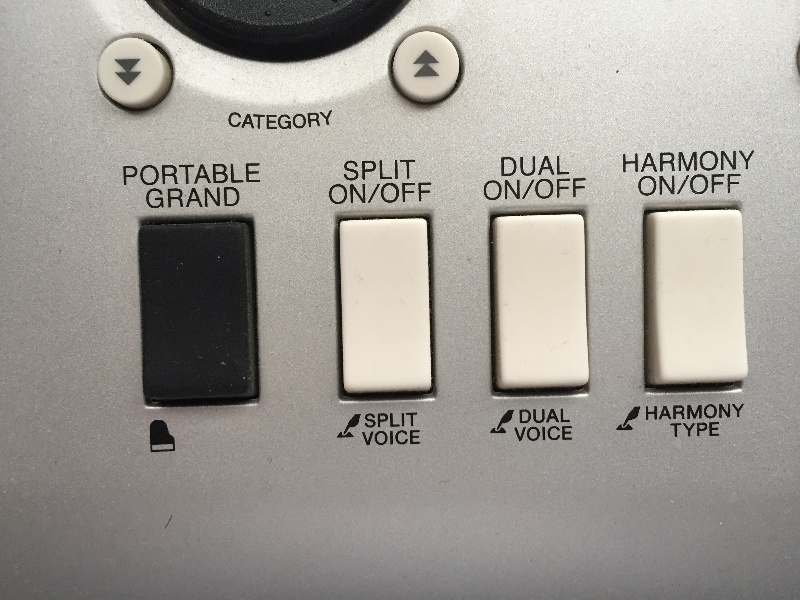text: (625, 150, 640, 174), (641, 150, 656, 174), (657, 150, 672, 174), (673, 150, 688, 174), (689, 150, 704, 174), (705, 150, 720, 174), (721, 150, 736, 174), (737, 150, 752, 174), (225, 187, 241, 209), (129, 163, 144, 186), (145, 163, 160, 186), (161, 163, 176, 186), (177, 163, 192, 186), (193, 163, 208, 186), (209, 163, 224, 186), (225, 163, 240, 186), (241, 163, 256, 186), (337, 183, 352, 206), (353, 183, 368, 206), (369, 183, 384, 206), (385, 183, 400, 206), (401, 183, 416, 206), (417, 183, 432, 206), (497, 178, 512, 201), (513, 178, 528, 201), (529, 178, 544, 201), (545, 178, 560, 201), (561, 178, 576, 201), (641, 174, 656, 197), (657, 174, 672, 197), (673, 174, 688, 197), (689, 174, 704, 197), (705, 174, 720, 197), (721, 174, 736, 197), (161, 187, 176, 209), (177, 187, 192, 209), (193, 187, 208, 209), (209, 187, 224, 209), (353, 160, 368, 181), (369, 160, 384, 181), (385, 160, 400, 181), (401, 160, 416, 181), (513, 156, 528, 177), (529, 156, 544, 177), (545, 156, 560, 177), (146, 187, 160, 209), (241, 110, 256, 130), (257, 110, 272, 130), (273, 110, 288, 130), (289, 110, 304, 130), (305, 110, 320, 130), (484, 178, 496, 201), (369, 411, 384, 428), (385, 411, 400, 428), (401, 411, 416, 428), (657, 404, 672, 421), (673, 404, 688, 421), (689, 404, 704, 421), (705, 404, 720, 421), (721, 404, 736, 421), (369, 430, 384, 447), (385, 430, 400, 447), (401, 430, 416, 447), (321, 110, 333, 130), (529, 408, 544, 424), (545, 408, 560, 424), (673, 422, 688, 438), (689, 422, 704, 438), (705, 422, 720, 438), (529, 426, 544, 442), (545, 426, 560, 442), (501, 156, 512, 177), (577, 178, 587, 201), (514, 426, 528, 442), (229, 110, 240, 130), (561, 426, 573, 442), (343, 160, 352, 181), (561, 156, 570, 177), (646, 404, 656, 421), (561, 408, 571, 424), (519, 408, 528, 424), (330, 183, 336, 206), (737, 404, 745, 421), (361, 430, 368, 447), (123, 163, 128, 186), (257, 163, 261, 186), (737, 174, 741, 197), (753, 150, 756, 174), (417, 430, 421, 447), (365, 411, 368, 428), (638, 174, 640, 197), (417, 411, 419, 428), (670, 422, 672, 438), (623, 150, 624, 174)
